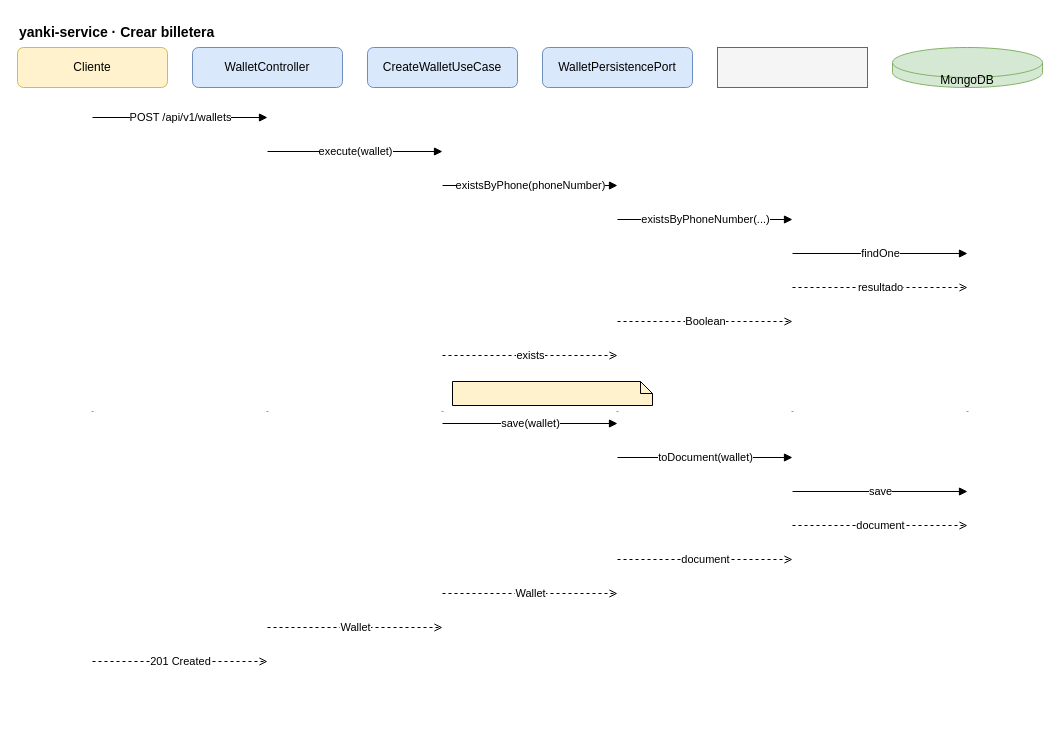
Image size: 1060x753. Some labels were removed from this diagram. The centre of each missing label's shape, as x and y in pixels:
Si existe -> 409: (x=552, y=393)
WalletMongoAdapter: (x=792, y=67)
